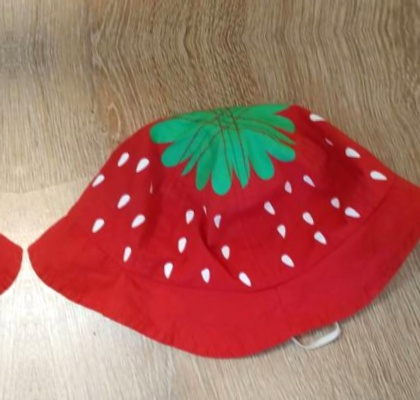Hat: (25, 70, 420, 379), (0, 100, 22, 400), (0, 0, 417, 8)
